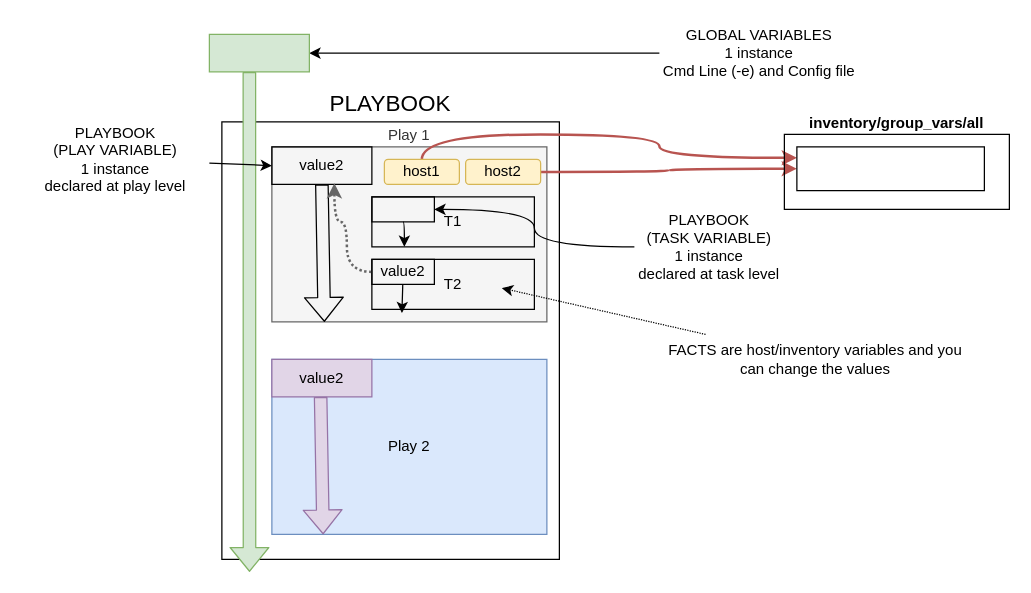
Some shapes in this 1031 by 593 pixel diagram are drawn without their labels. The centre of each missing label's shape, as x and y in pixels:
"inventory/host var (eg inventory_hostname)" belongs at (x=890, y=168).
"value1" belongs at (x=258, y=52).
"value3" belongs at (x=402, y=209).
